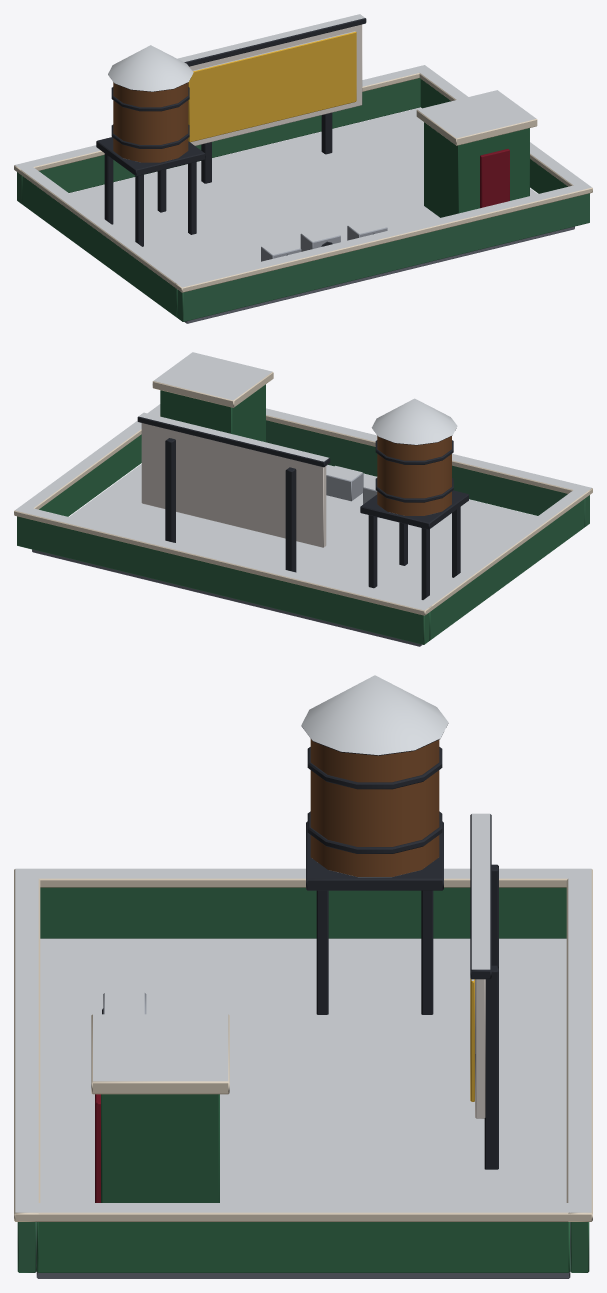
File: Apartment_Green_Roof.glb
3 views of the same model, one above another, from view 1: azimuth 30°, elevation 25°; view 2: azimuth 150°, elevation 25°; view 3: azimuth 270°, elevation 25° (orthographic). The views are drawn at different scales.
Parts seen in each view (by area): view 1: Apartment_Green_Roof; view 2: Apartment_Green_Roof; view 3: Apartment_Green_Roof.
Boxes of the visible parts, x1=… form: Apartment_Green_Roof: x1=14, y1=14, x2=592, y2=323; Apartment_Green_Roof: x1=14, y1=352, x2=592, y2=646; Apartment_Green_Roof: x1=14, y1=675, x2=592, y2=1278.
Size of the model in its own units: 34.3 by 15.3 by 24.3.
